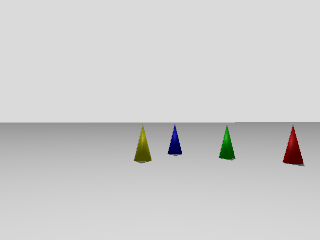blue: (165, 122, 184, 158)
green: (217, 123, 236, 161)
red: (281, 124, 304, 164)
yellow: (133, 124, 152, 162)
